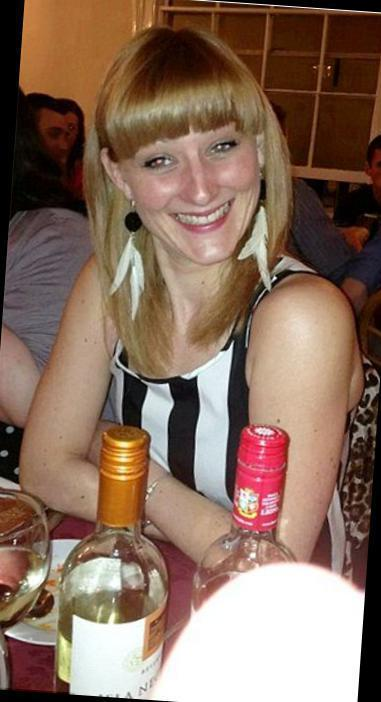Drunk: (135, 126, 260, 263)
